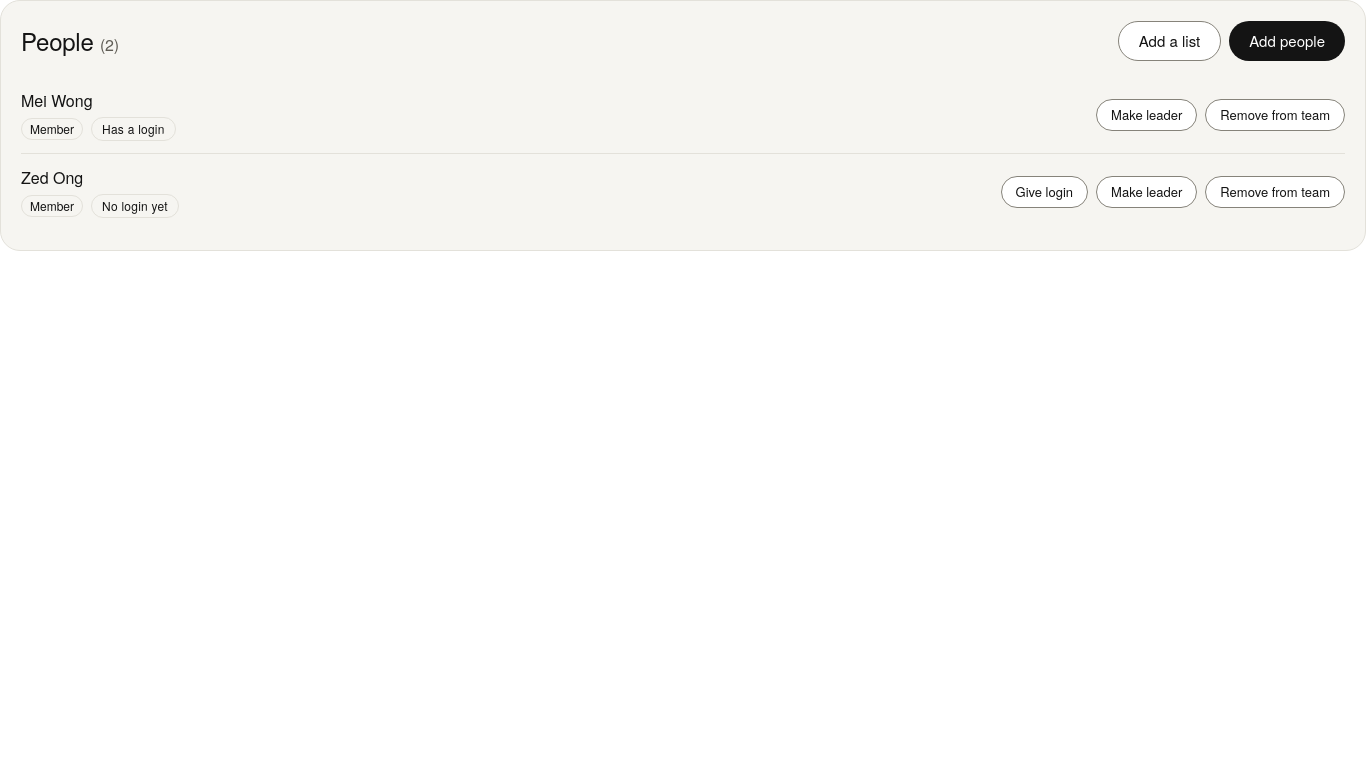
Test case: PeopleSection › puts focus on the People heading when a removed person's row goes away
Click the button "Remove from team" in the row of "Zed Ong".
click(1275, 192)  # box [1205,176,1345,208]
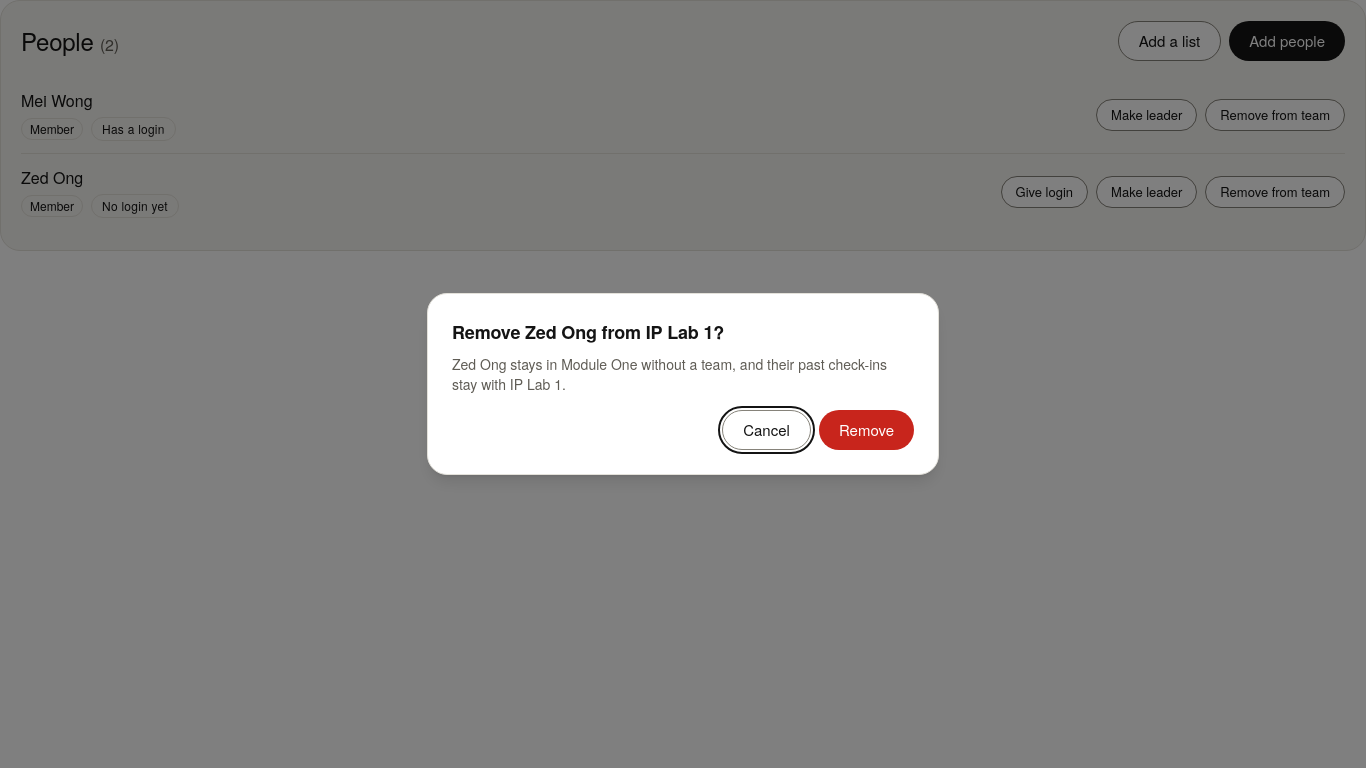
Click the button "Remove".
click(866, 430)  # box [819,410,914,450]
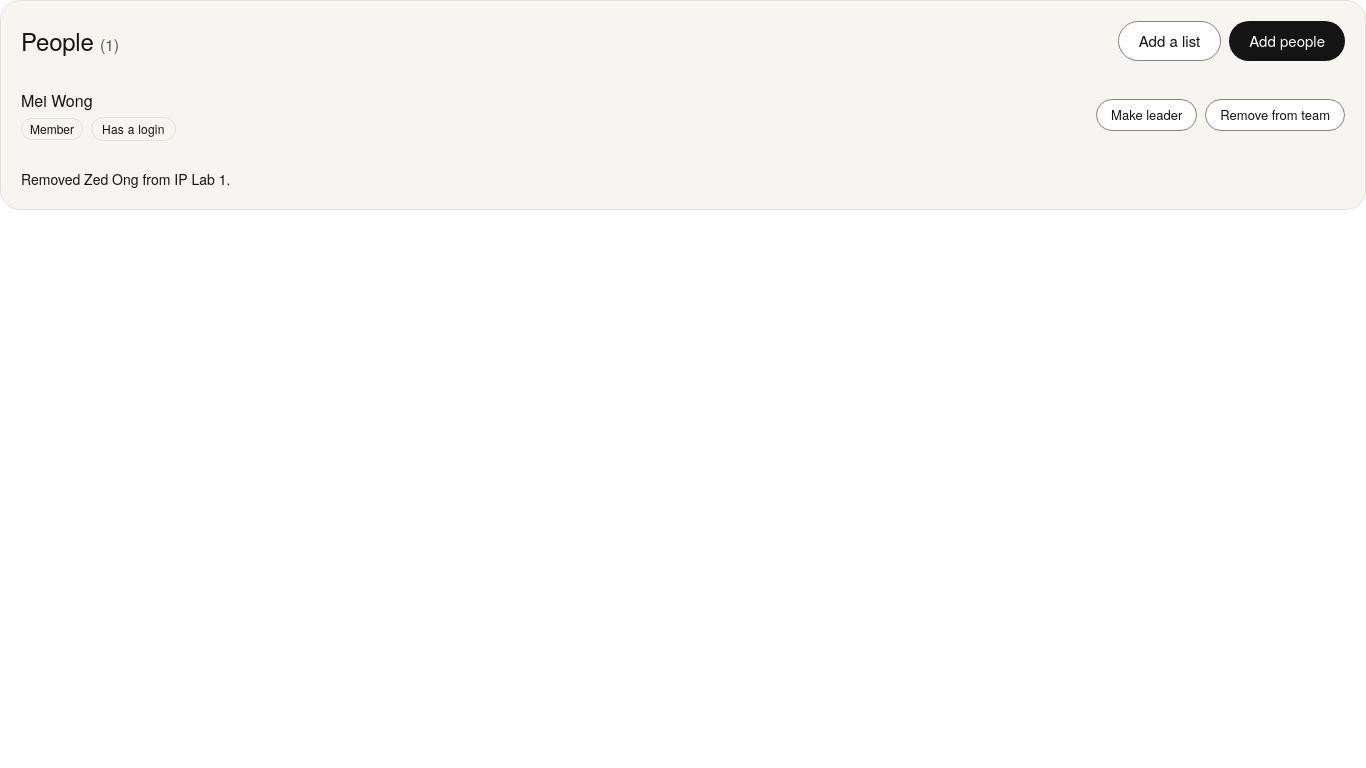
Check: the heading "People (1)" is shown, box [21,25,119,57]
Check: the text "Removed Zed Ong from IP Lab 1." is shown, box [21,169,230,189]
